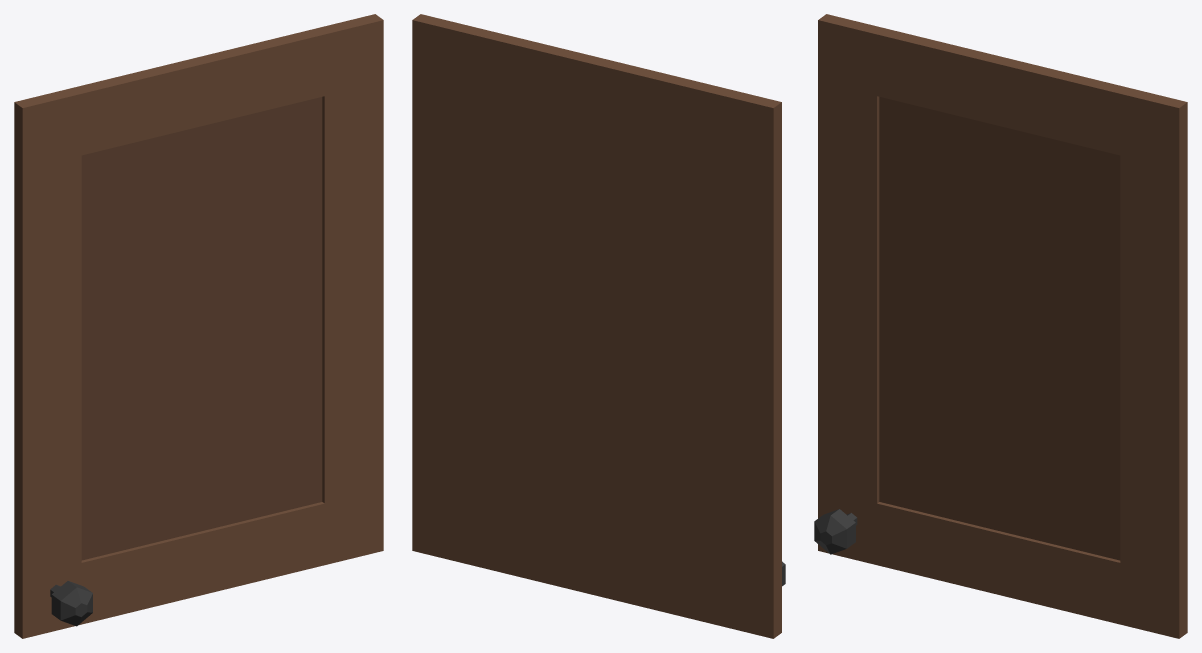
Rendered from Wardrobe7_C3_04.fbx.
The picture shows the model from 3 angles, left to right: view 1: azimuth 30°, elevation 25°; view 2: azimuth 150°, elevation 25°; view 3: azimuth 330°, elevation 25°; orthographic projection.
Parts seen in each view (by area): view 1: Wardrobe7_C3_04; view 2: Wardrobe7_C3_04; view 3: Wardrobe7_C3_04.
Part boxes in pixels (left/top/right/bottom): Wardrobe7_C3_04: left=14, top=14, right=383, bottom=638; Wardrobe7_C3_04: left=412, top=14, right=785, bottom=638; Wardrobe7_C3_04: left=814, top=14, right=1187, bottom=638.
Bounding box in the file's own units: 50 × 70.23 × 8.1.
